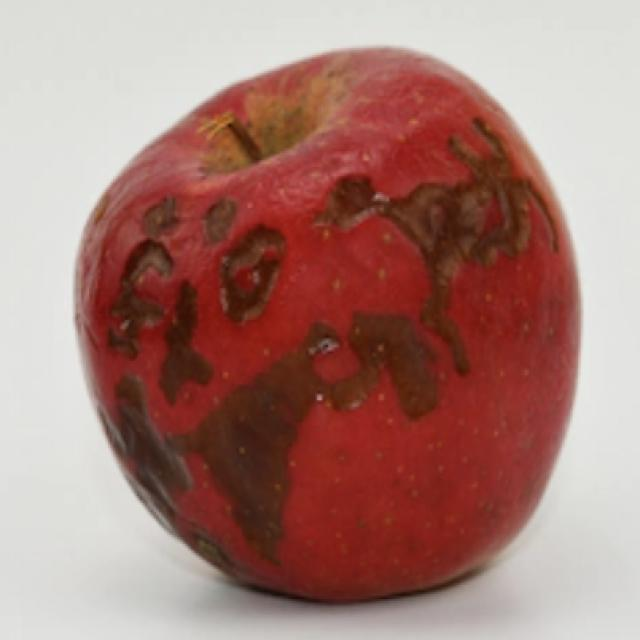rotten_apple: (76, 44, 583, 601)
